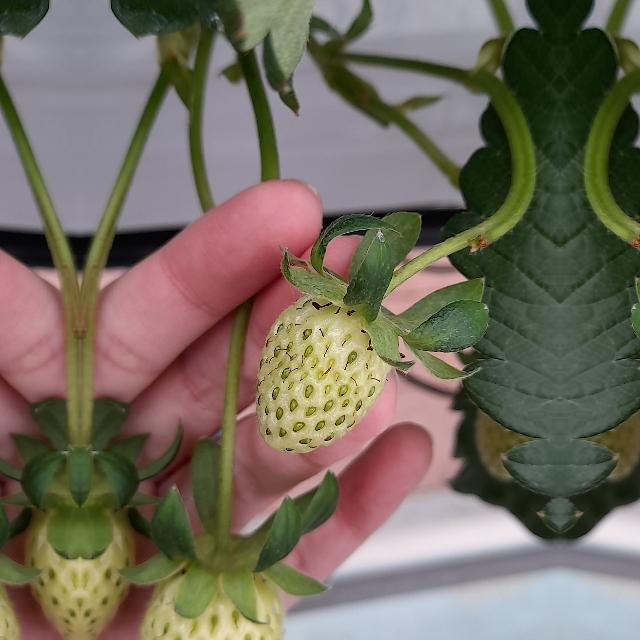Health_25: (256, 294, 392, 454), (150, 556, 282, 640), (80, 446, 134, 640), (26, 446, 80, 640)
